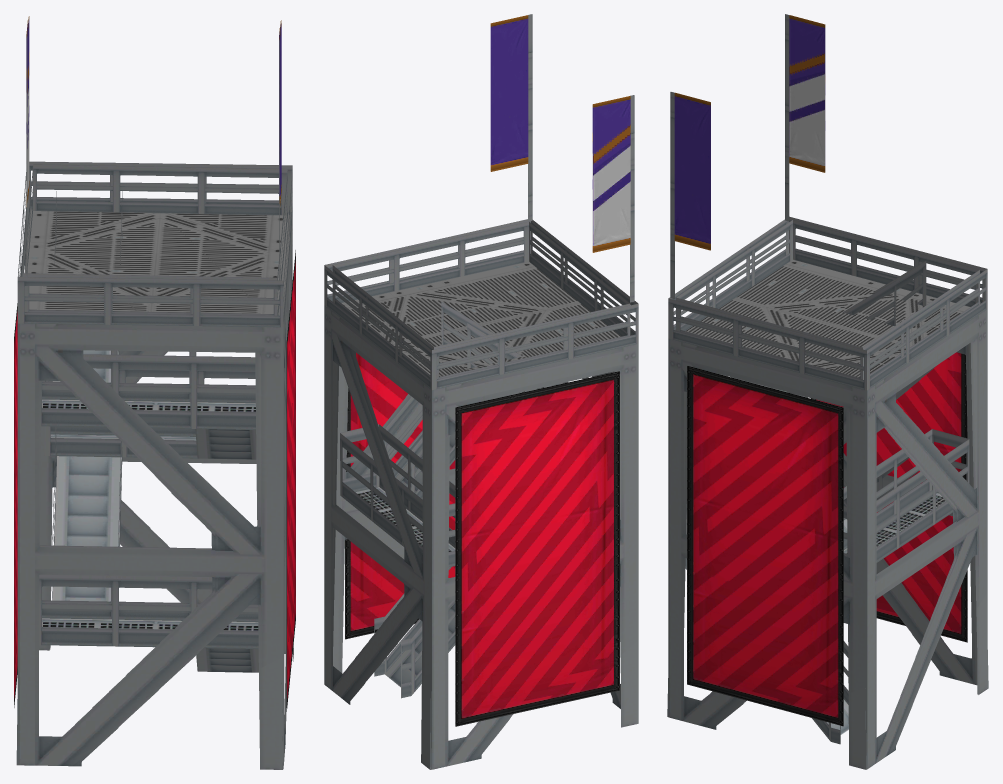
File: pro_camera_tower.fbx
3 views of the same model, side by side, from view 1: azimuth 30°, elevation 25°; view 2: azimuth 150°, elevation 25°; view 3: azimuth 270°, elevation 25° (orthographic). The views are drawn at different scales.
Parts seen in each view (by area): view 1: pro_camera_tower, flags; view 2: pro_camera_tower, flags; view 3: pro_camera_tower, flags.
Part boxes in pixels (x1,y1,x2,y2): pro_camera_tower: [14, 161, 295, 769]; flags: [26, 16, 281, 279]; pro_camera_tower: [324, 219, 638, 769]; flags: [490, 14, 634, 302]; pro_camera_tower: [667, 216, 988, 769]; flags: [670, 14, 825, 298].
Size of the model in its own units: 766 by 1655 by 772.
